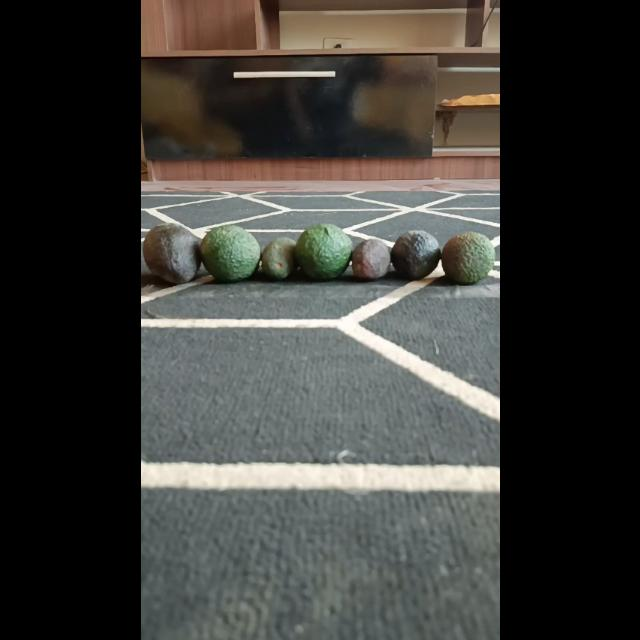Primera: (142, 222, 202, 284), (200, 224, 260, 282), (294, 222, 354, 280)
Segunda: (440, 232, 494, 286), (391, 230, 442, 280)
Tercera: (351, 238, 392, 280), (260, 237, 296, 280)
